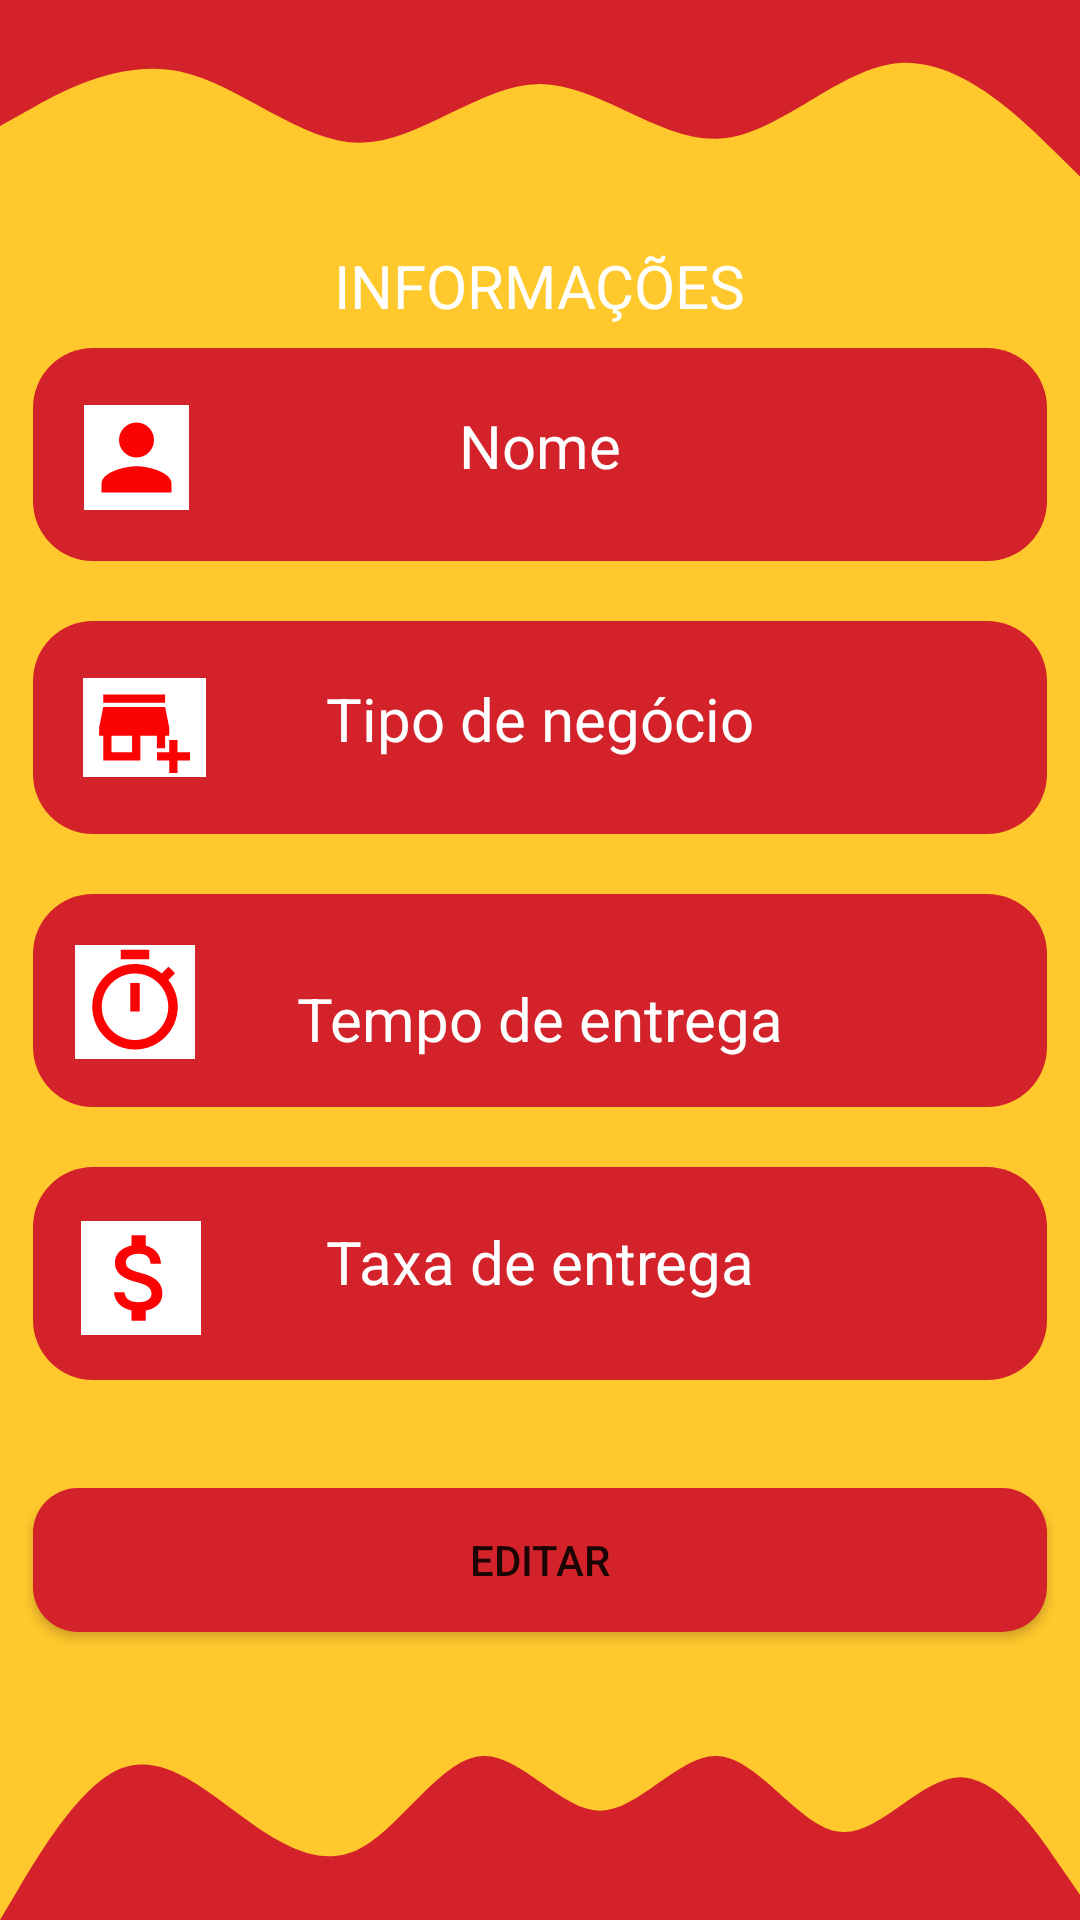

Where icons sit on this 1080*1920 app screen, as (x1, y1, x2, y2):
business: (83, 678, 206, 777)
money: (81, 1221, 201, 1335)
person: (84, 405, 189, 510)
time: (75, 945, 195, 1059)
